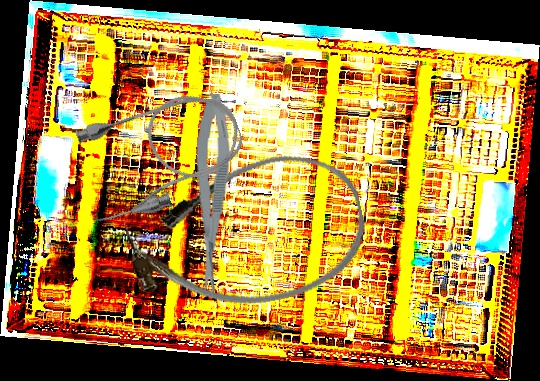Cannula: (116, 141, 377, 328), (65, 76, 256, 233)
Micro Scissor: (188, 92, 233, 298)
